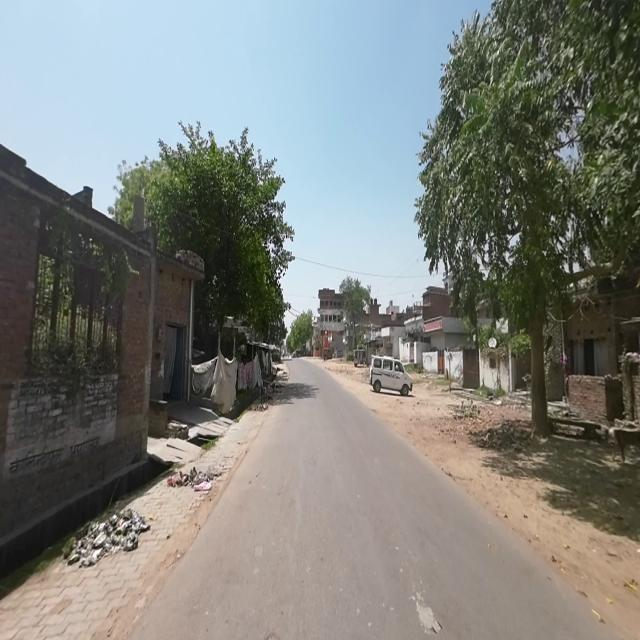Garbage: (66, 511, 150, 566), (168, 466, 218, 492), (252, 400, 268, 412)
